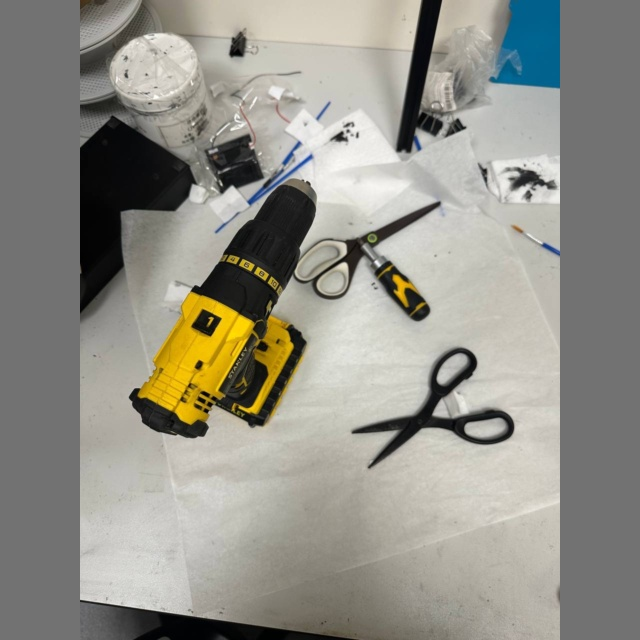drill: (130, 179, 316, 438)
scissor: (352, 348, 514, 468), (294, 200, 440, 299)
screwdriver: (363, 253, 428, 320)
